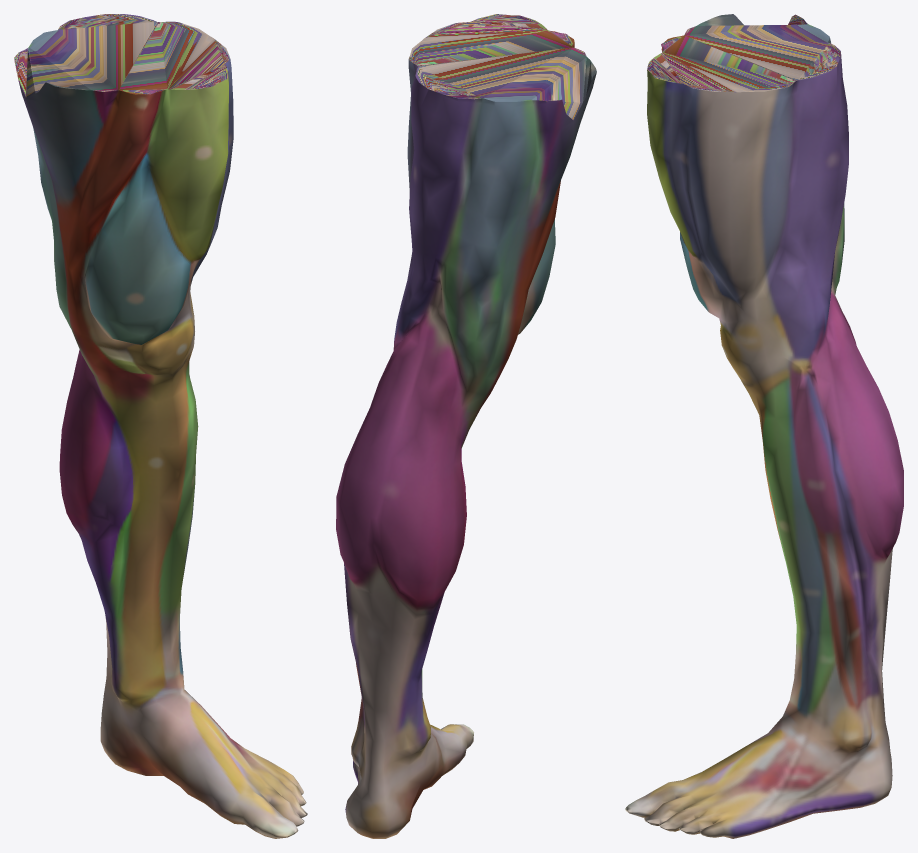
File: derived-anatomy-left-leg.glb
The picture shows the model from 3 angles, left to right: view 1: azimuth 30°, elevation 25°; view 2: azimuth 150°, elevation 25°; view 3: azimuth 270°, elevation 25°; orthographic projection. The views are drawn at different scales.
Visible parts, largest first — view 1: derived-anatomy-left-leg; view 2: derived-anatomy-left-leg; view 3: derived-anatomy-left-leg.
Boxes of the visible parts, <box> form: derived-anatomy-left-leg: <box>14,14,307,838</box>; derived-anatomy-left-leg: <box>336,14,596,838</box>; derived-anatomy-left-leg: <box>625,14,903,838</box>.
Size of the model in its own units: 0.2668 by 0.8 by 0.2814.
Materials: 1 (1 with a texture image).
